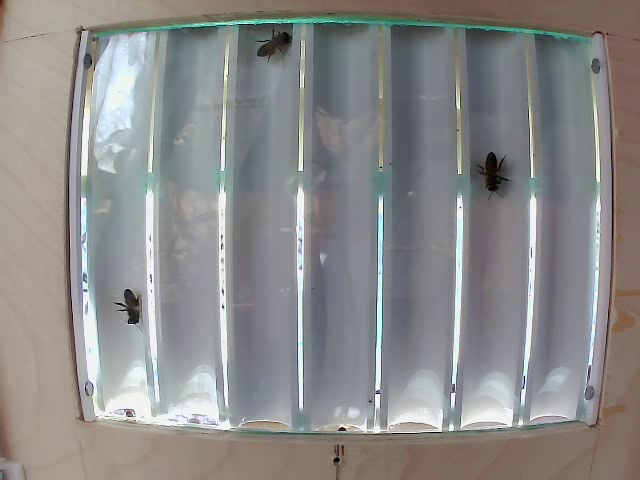bee: (473, 137, 511, 199), (255, 19, 293, 73), (116, 282, 145, 330)
